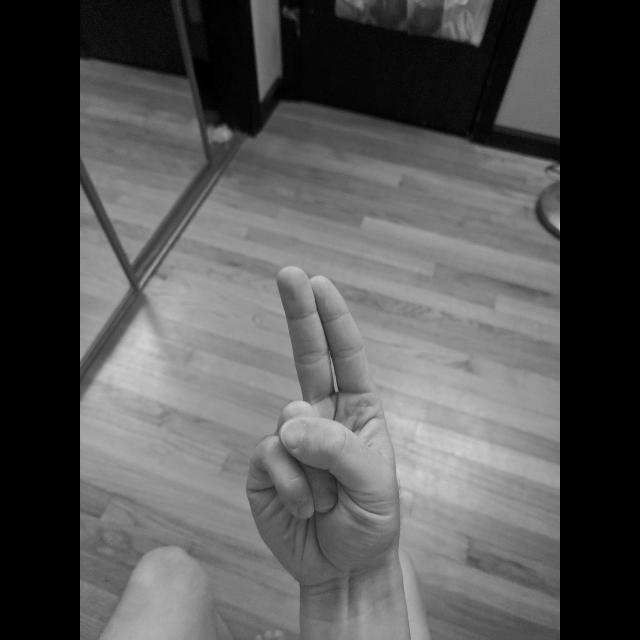U: (239, 261, 406, 591)
